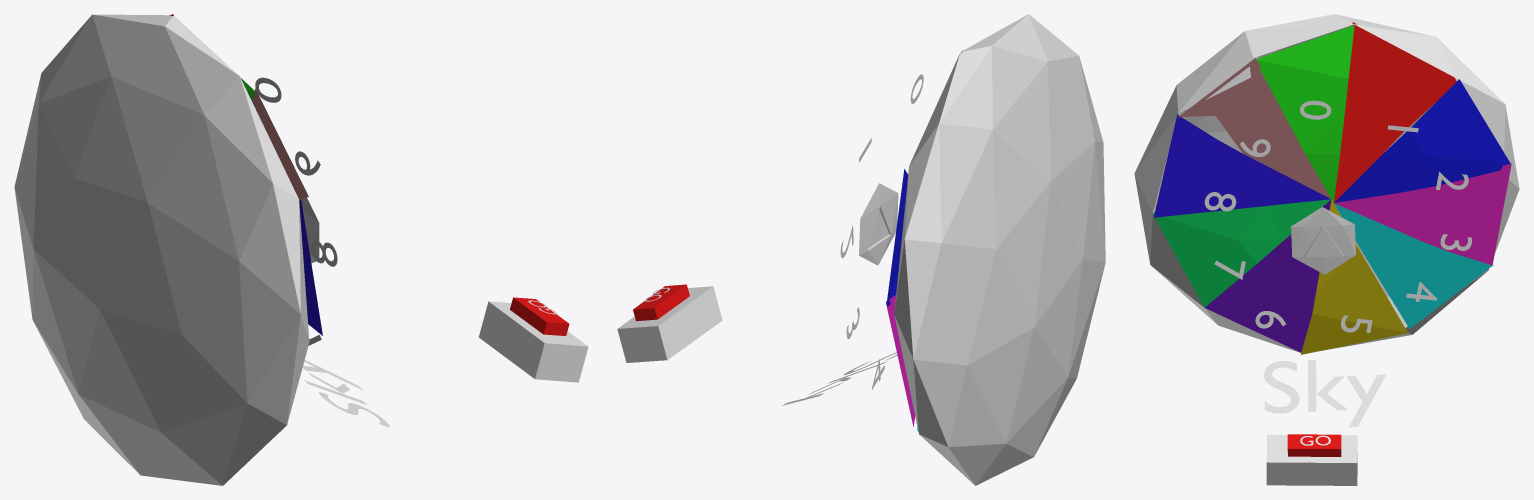
The model's file is FINALRULETA.fbx.
3 views of the same model, side by side, from view 1: azimuth 30°, elevation 25°; view 2: azimuth 150°, elevation 25°; view 3: azimuth 270°, elevation 25° (orthographic). The views are drawn at different scales.
Visible parts, largest first — view 1: ATRAS, Cube.001, Cube.003, Text, FLECHA; view 2: ATRAS, Cube.001, FLECHA, Cube.003; view 3: ATRAS, Cube.001, FLECHA, Text, Cube.003.
Part boxes in pixels (x1,y1,x2,y2): ATRAS: (14,14,337,485); Cube.001: (478,301,588,382); Cube.003: (510,297,569,335); Text: (302,360,389,427); FLECHA: (299,197,319,263); ATRAS: (840,14,1105,485); Cube.001: (617,286,722,362); FLECHA: (859,183,898,265); Cube.003: (633,284,689,321); ATRAS: (1134,14,1519,354); Cube.001: (1266,434,1357,485); FLECHA: (1291,207,1355,274); Text: (1264,360,1386,427); Cube.003: (1287,434,1341,456).
Bounding box in the file's own units: 433 × 412 × 419.
